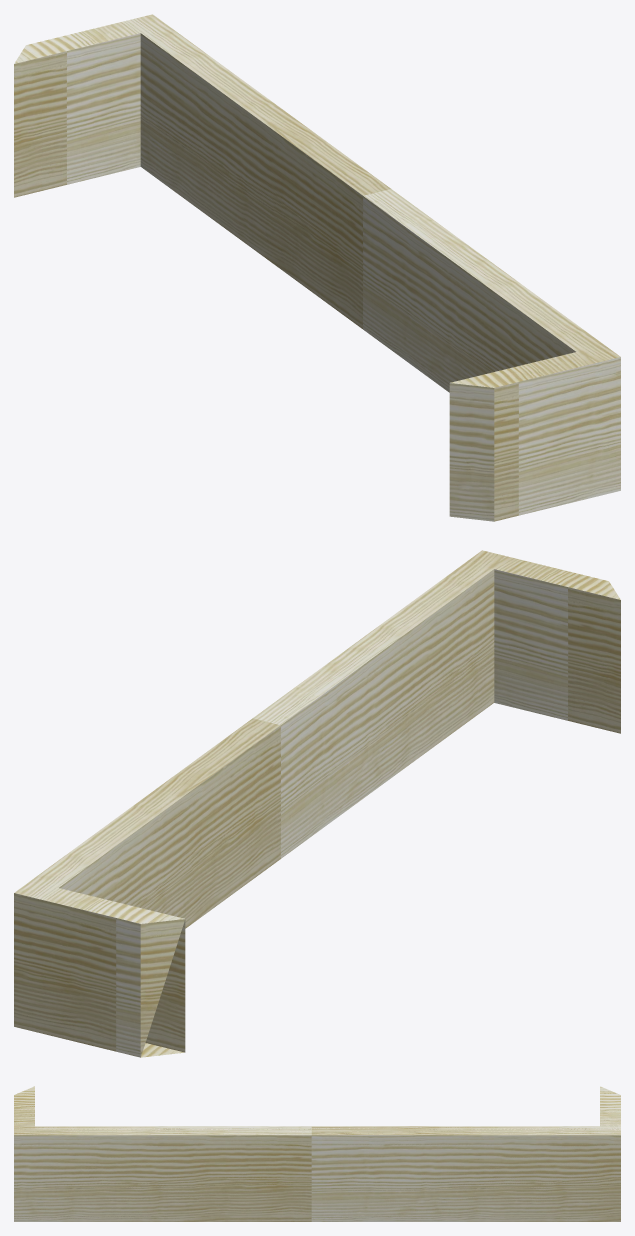
The picture shows the model from 3 angles, top to bottom: view 1: azimuth 30°, elevation 25°; view 2: azimuth 150°, elevation 25°; view 3: azimuth 270°, elevation 25°; orthographic projection. The views are drawn at different scales.
Bounding box in the file's own units: 0.1471 × 0.1212 × 0.7693.
